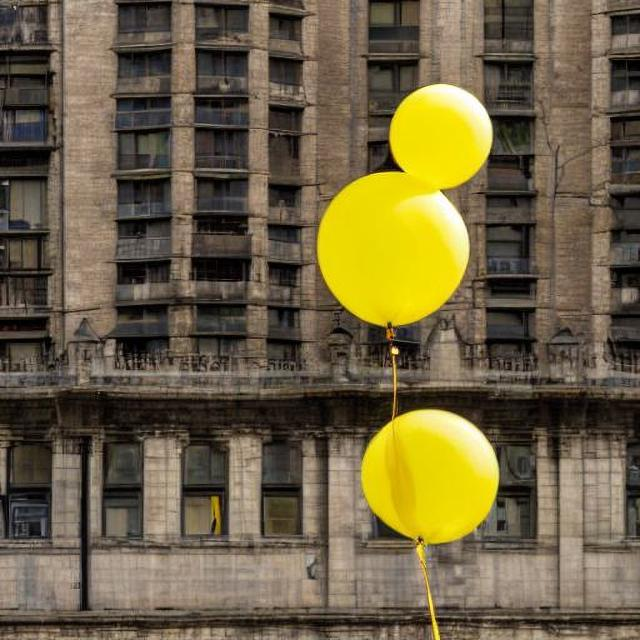balloon: (309, 92, 489, 338), (353, 399, 499, 564), (391, 75, 498, 200)
